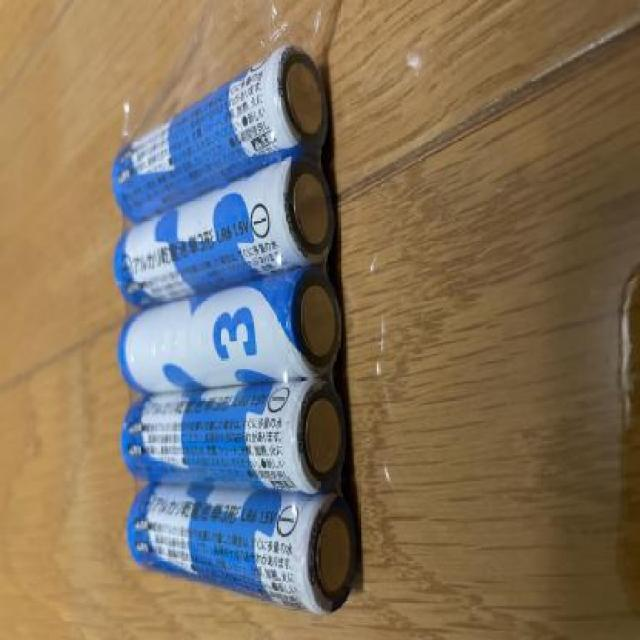hazardous waste: (113, 44, 350, 212), (106, 158, 351, 317), (111, 262, 371, 396), (124, 477, 364, 620), (106, 382, 385, 504)
